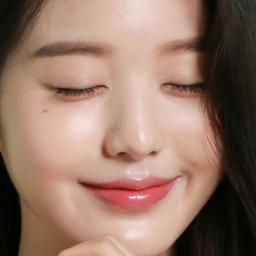face: (20, 0, 220, 256)
